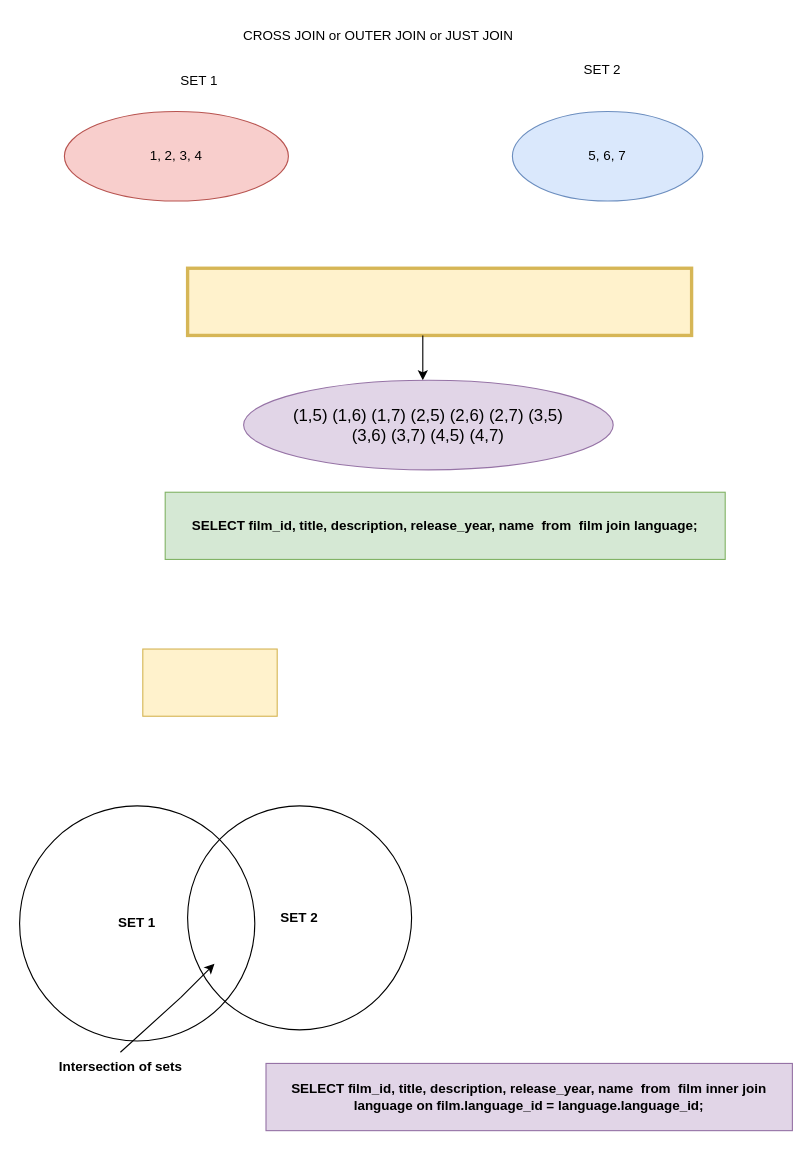
The diagram is 812 pixels wide and 1150 high, and some of its shapes have lost their labels. The centre of each missing label's shape, as x and y in pixels:
All possible pair such that one element is from set 1 and another from set 2: the point at 439,301
INNER JOIN: the point at 209,682
